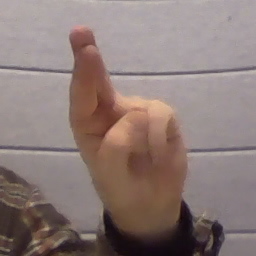R: (64, 22, 190, 204)
